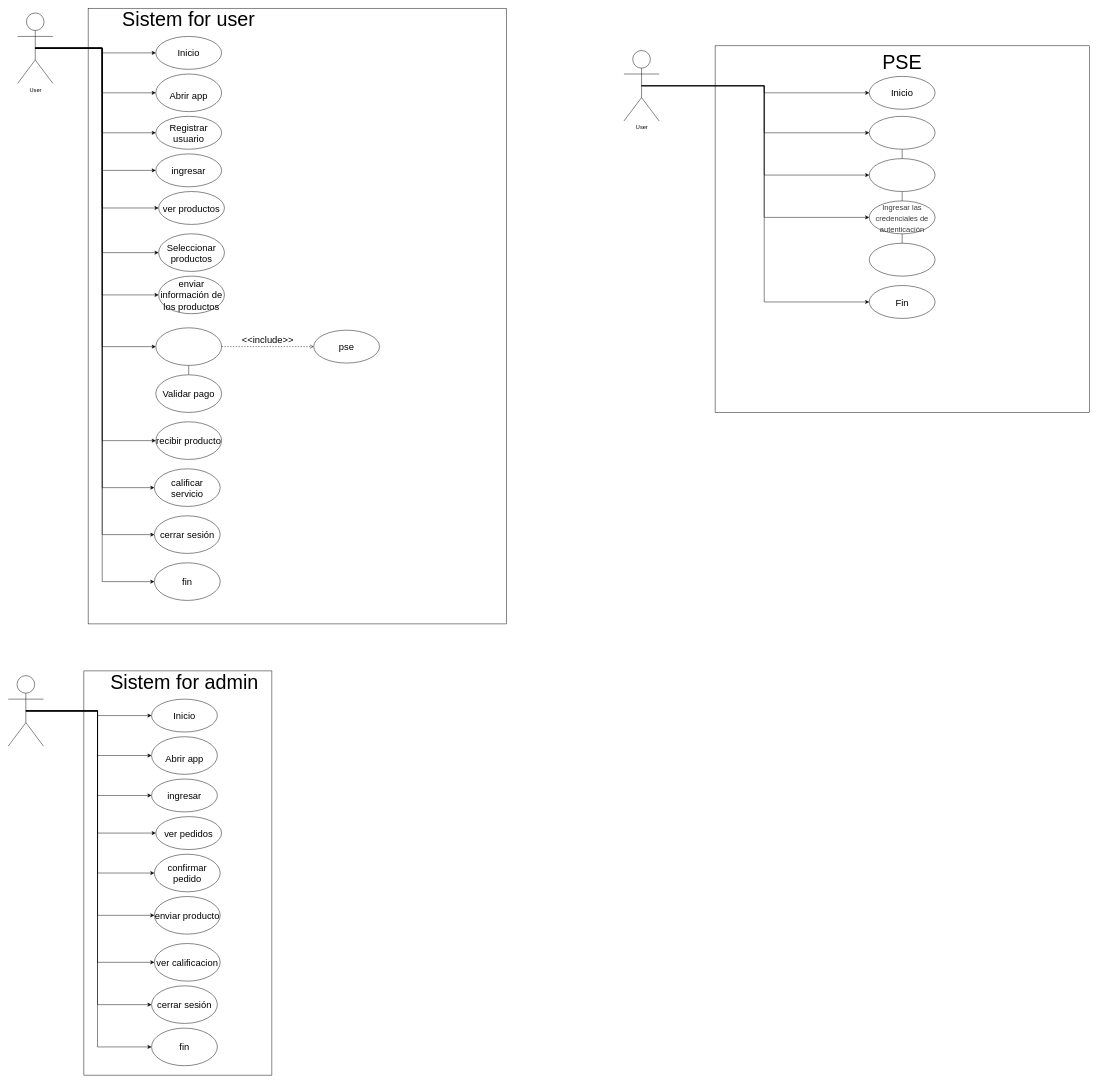
Some shapes in this 1097 by 1083 pixel diagram are drawn without their labels. The centre of each missing label's shape, as x and y in pixels:
"Admin" goes at point (25, 710).
"clickear en pagar" goes at point (902, 175).
"Elegir método de pago" goes at point (188, 346).
"Informar pago" goes at point (902, 259).
"Seleccionar entidad bancaria" goes at point (902, 132).
